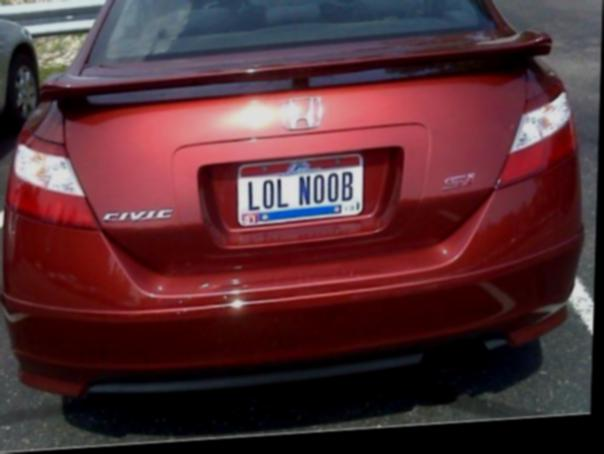License_Plate: (233, 151, 369, 228)
